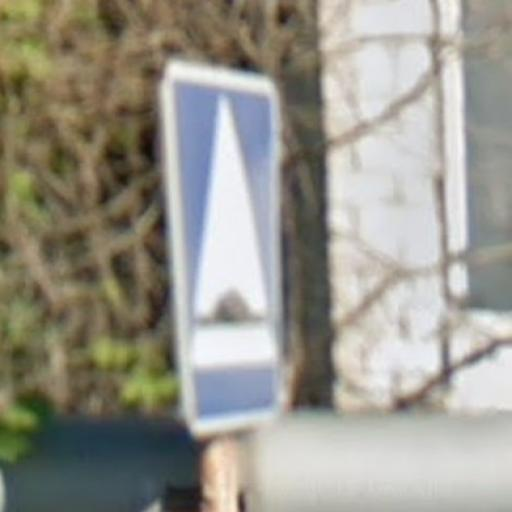traffic_sign: (158, 62, 292, 441)
